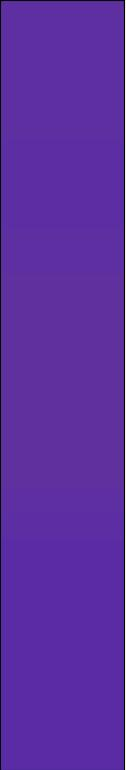safe: (9, 9, 119, 755)
